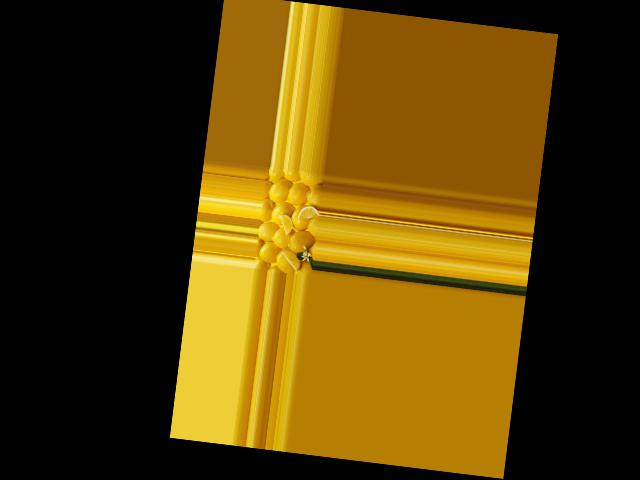lemon: (301, 183, 323, 208)
